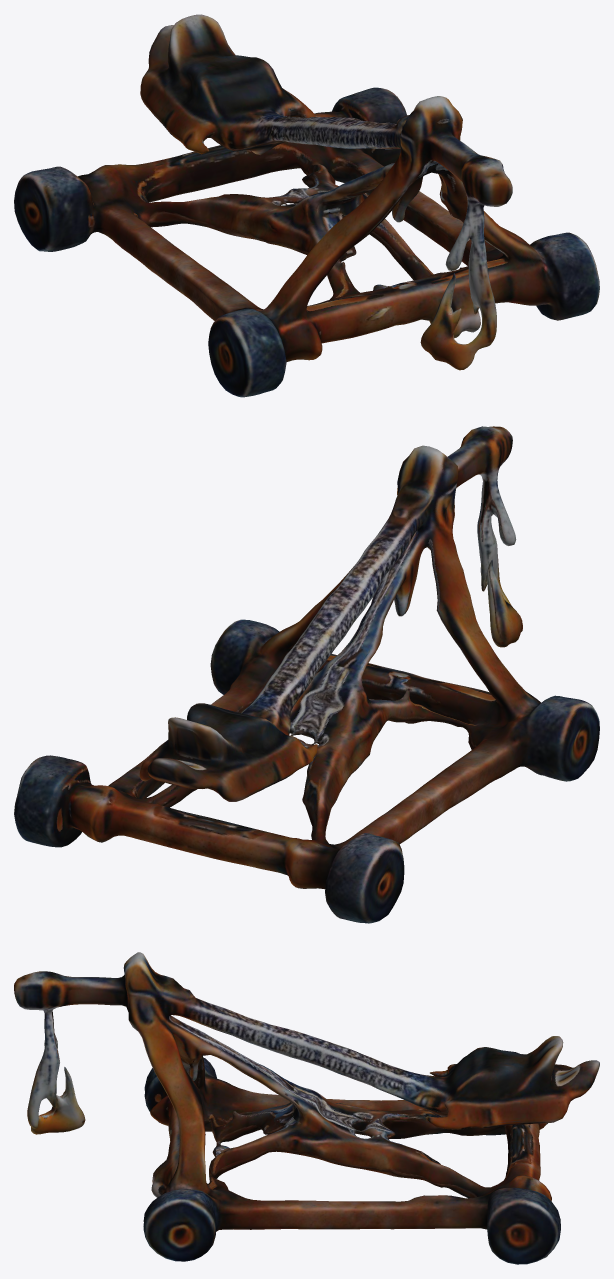
The model's file is Catapult.fbx.
3 views of the same model, one above another, from view 1: azimuth 30°, elevation 25°; view 2: azimuth 150°, elevation 25°; view 3: azimuth 270°, elevation 25° (orthographic). The views are drawn at different scales.
Parts seen in each view (by area): view 1: mesh; view 2: mesh; view 3: mesh.
Boxes of the visible parts, <box> form: mesh: <box>14,14,599,397</box>; mesh: <box>14,426,599,923</box>; mesh: <box>14,952,599,1264</box>.
Bounding box in the file's own units: 61.5 × 44.26 × 99.52.
